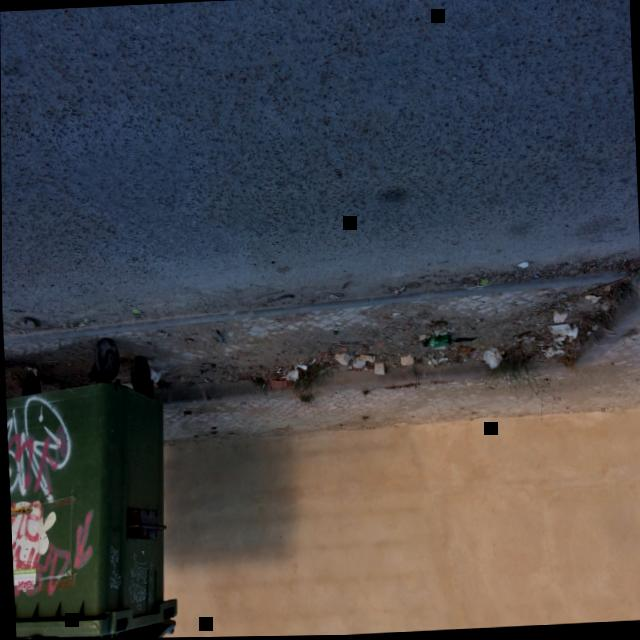Broken glass: (332, 332, 338, 337)
Cigarette: (149, 366, 160, 384), (479, 281, 488, 287), (393, 289, 399, 294), (78, 323, 85, 327), (514, 322, 521, 325)
Clear plastic bottle: (422, 336, 450, 349)
Garbage bag: (15, 634, 99, 640)
Normal paper: (285, 370, 298, 383), (470, 350, 475, 360)
Other plastic bottle: (27, 367, 37, 377), (132, 310, 140, 314), (400, 330, 405, 334)
Other plastic cup: (546, 324, 570, 336)
Unlabeled litter: (541, 348, 564, 360), (585, 297, 601, 305), (294, 365, 307, 372), (516, 262, 527, 269), (437, 359, 447, 364), (591, 327, 599, 332), (309, 358, 316, 363), (590, 266, 595, 271)
